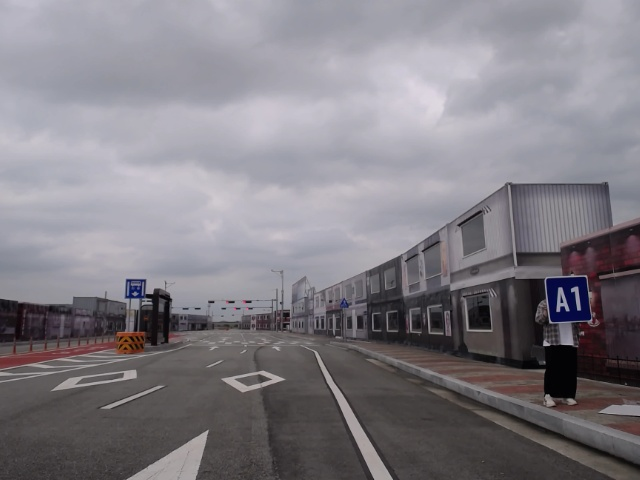delivery_a1: (545, 275, 593, 324)
